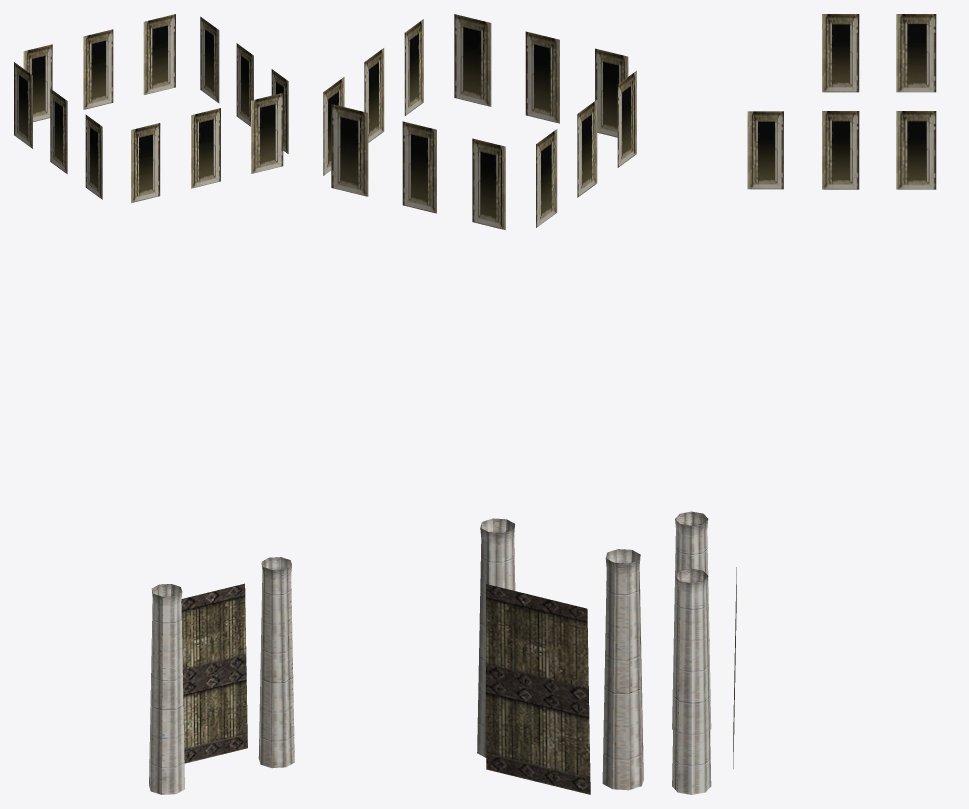
Rendered from hele_scout_tower_p.dae.
3 renders of one model, left to right at view 1: azimuth 30°, elevation 25°; view 2: azimuth 150°, elevation 25°; view 3: azimuth 270°, elevation 25°, orthographic. The views are drawn at different scales.
Parts seen in each view (by area): view 1: scout_tower_props; view 2: scout_tower_props; view 3: scout_tower_props.
Boxes of the visible parts, bbox=[...] form: scout_tower_props: bbox=[14, 14, 294, 794]; scout_tower_props: bbox=[323, 14, 643, 794]; scout_tower_props: bbox=[672, 14, 936, 794].
Size of the model in its own units: 5.16 by 17.23 by 6.35.
